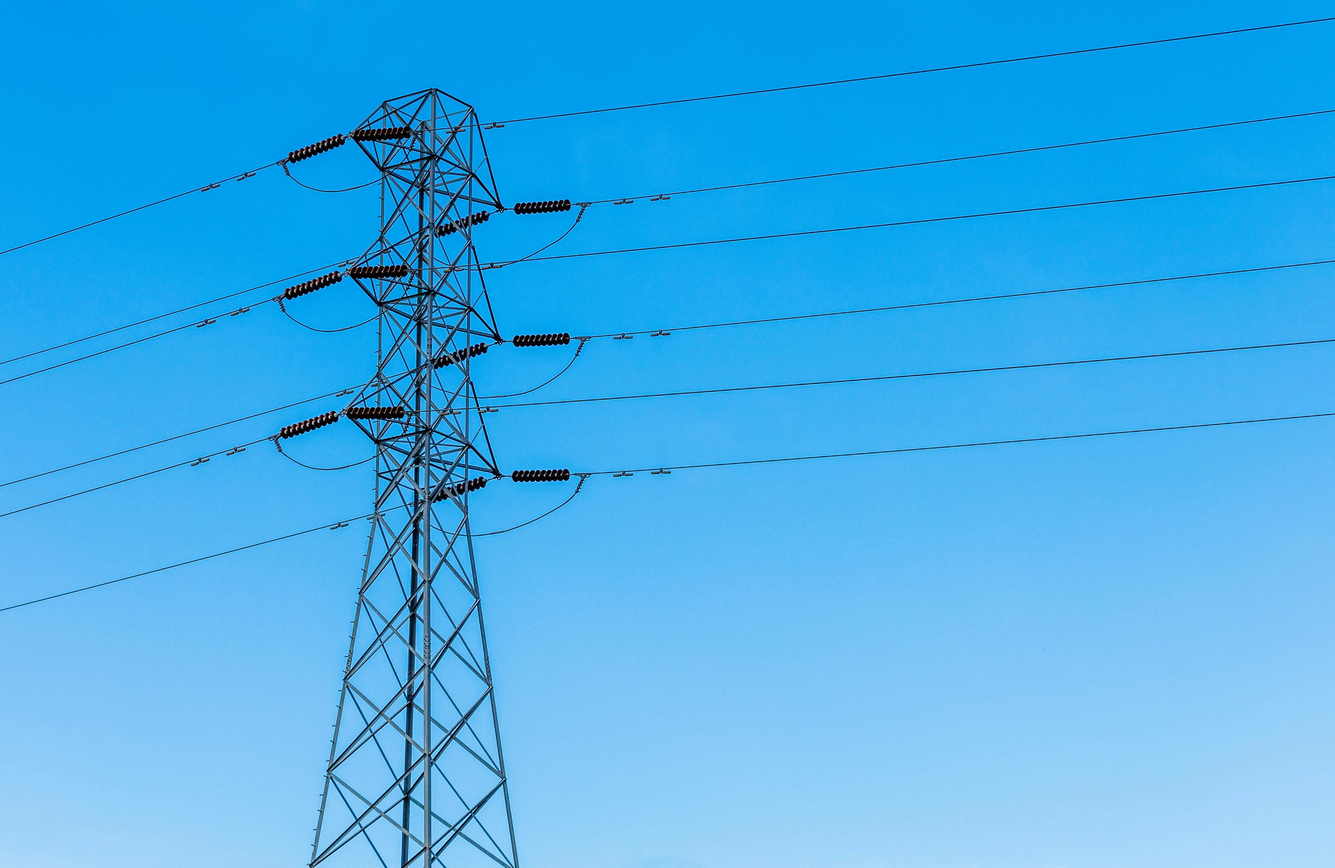insulator: (278, 127, 340, 167), (505, 188, 578, 218), (424, 475, 491, 506), (434, 206, 490, 243), (282, 409, 346, 441), (280, 272, 349, 300), (427, 341, 491, 369), (351, 119, 412, 148), (512, 327, 574, 350), (508, 467, 580, 486), (347, 405, 416, 424), (351, 261, 409, 281)
